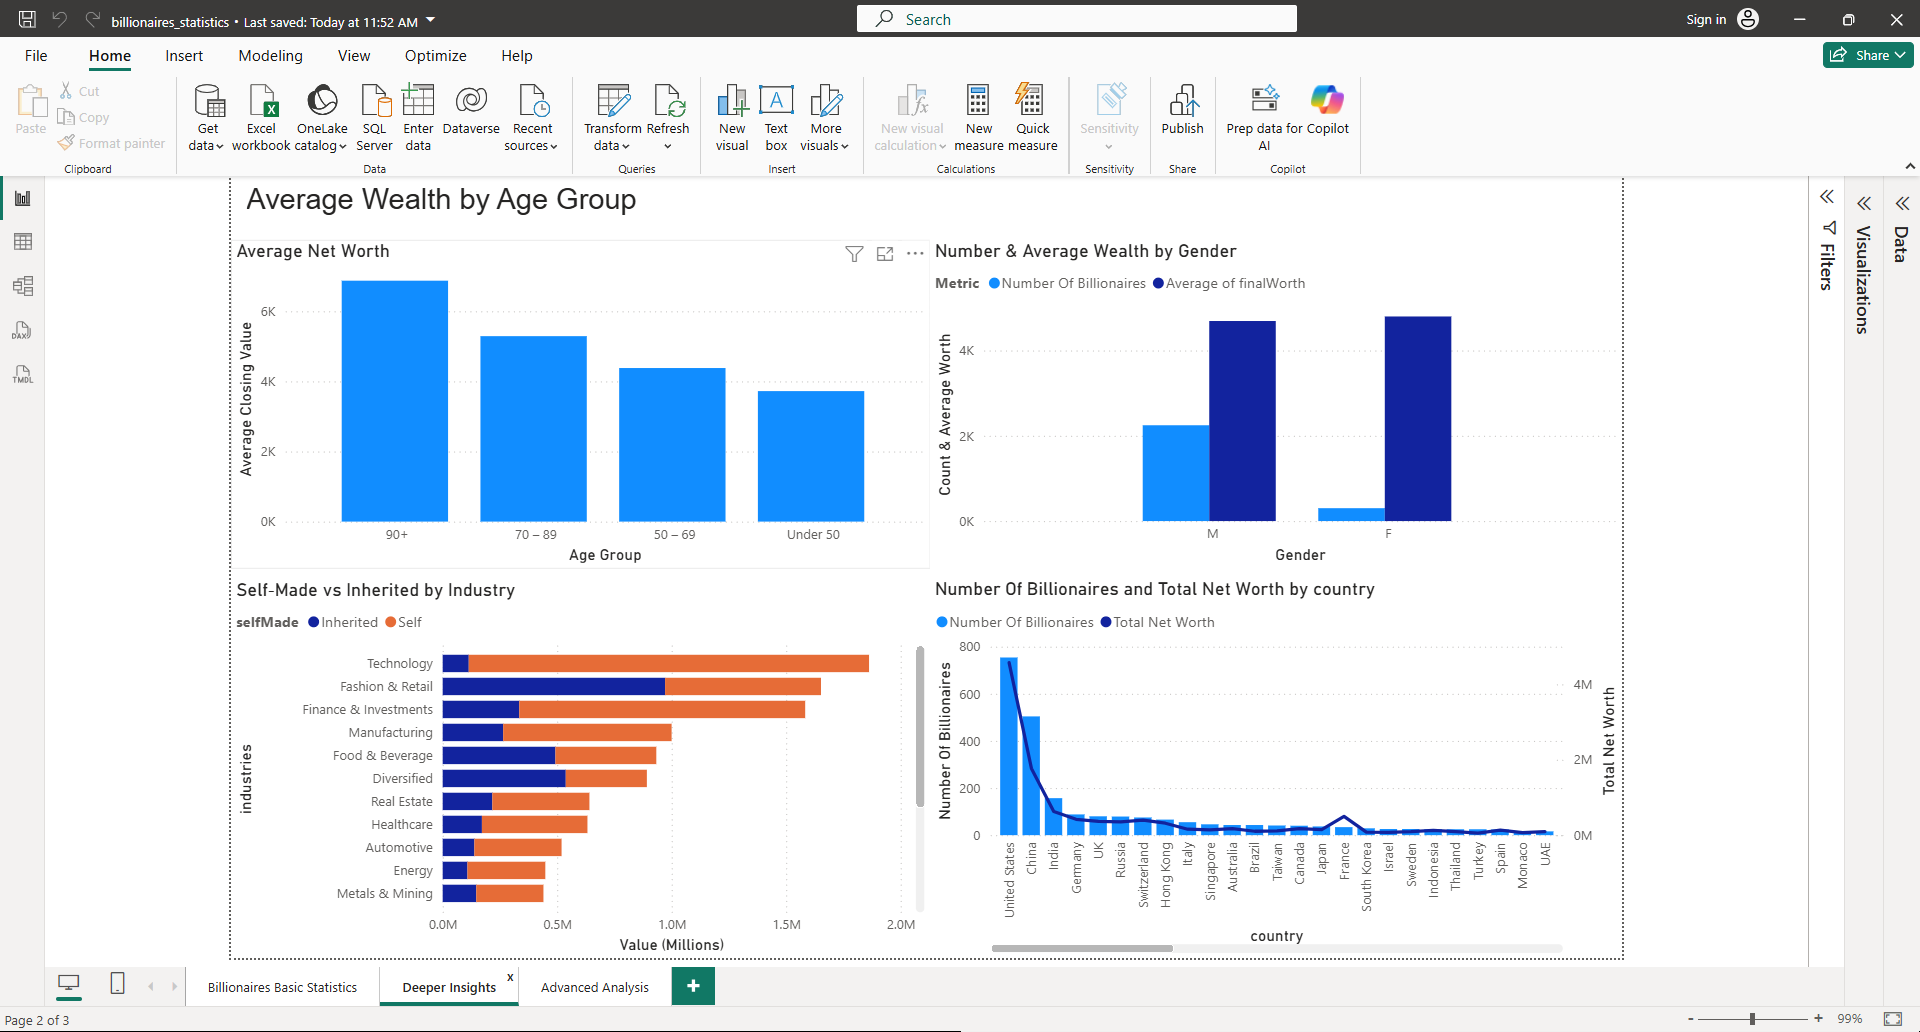

This screenshot's page, from the dashboard's own definition file:
{"tool":"powerbi","page":{"name":"Deeper Insights","canvas":[1280,720],"ordinal":1},"visuals":[{"type":"textbox","box":[8.8,0,1270.6,58.7],"z":0},{"type":"clusteredColumnChart","title":"Average Net Worth","fields":{"Category":["billionaire_statistics.Age Group"],"Y":["Avg(billionaire_statistics.finalWorth)"]},"box":[0,58.7,642.7,302.3],"z":1},{"type":"barChart","title":"Self‑Made vs Inherited by Industry","fields":{"Category":["billionaire_statistics.industries"],"Y":["Sum(billionaire_statistics.finalWorth)"],"Series":["billionaire_statistics.selfMade"]},"box":[0,370.5,642.8,349.3],"z":2},{"type":"clusteredColumnChart","title":"Number & Average Wealth by Gender","fields":{"Category":["billionaire_statistics.gender"],"Y":["CountNonNull(billionaire_statistics.personName)","Avg(billionaire_statistics.finalWorth)"]},"box":[643,59,637,302],"z":3},{"type":"lineClusteredColumnComboChart","fields":{"Category":["billionaire_statistics.country"],"Y":["CountNonNull(billionaire_statistics.personName)"],"Y2":["Sum(billionaire_statistics.finalWorth)"]},"box":[642.8,370.5,636.8,349.3],"z":4}]}

Visuals, with their boxes on the page's 1280x720 design canvas (x1, y1, x2, y2). These are canvas units, not pixel positions in the 1920x1032 screenshot, which may show the page scaled, cropped or inside an application window:
textbox: 9, 0, 1279, 59
"Average Net Worth" clusteredColumnChart: 0, 59, 643, 361
"Self‑Made vs Inherited by Industry" barChart: 0, 370, 643, 720
"Number & Average Wealth by Gender" clusteredColumnChart: 643, 59, 1280, 361
lineClusteredColumnComboChart - billionaire_statistics.country x CountNonNull(billionaire_statistics.personName): 643, 370, 1280, 720
